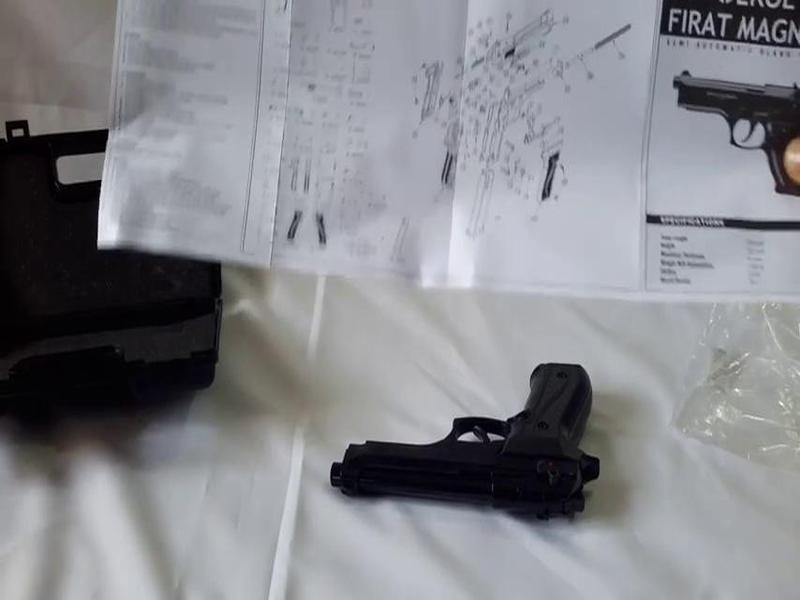Pistola: (313, 353, 621, 544)
